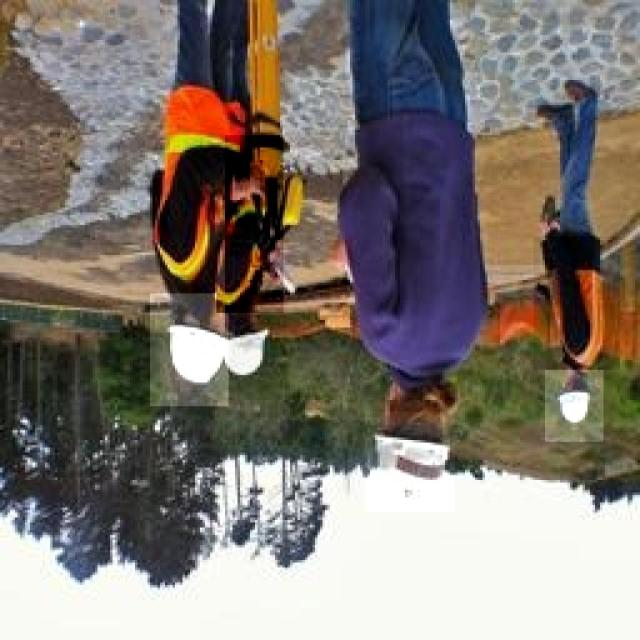Helmet: (335, 82, 493, 402), (150, 284, 228, 406), (365, 412, 455, 512), (228, 315, 286, 400), (545, 368, 603, 442)
Safety Vest: (147, 73, 225, 293), (216, 135, 284, 313), (534, 236, 620, 370)
